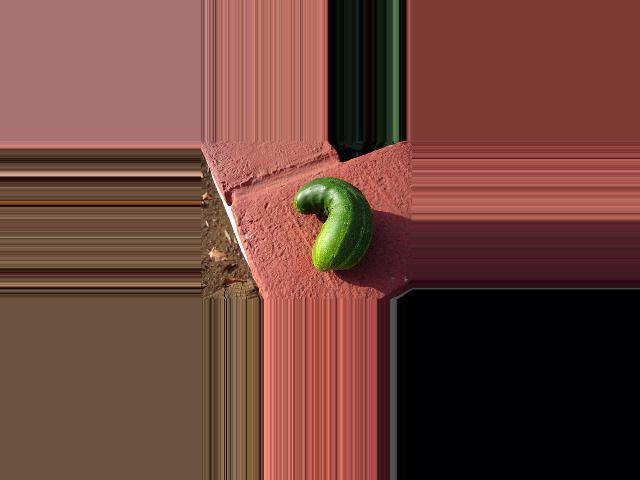cucumber: (292, 177, 372, 271)
